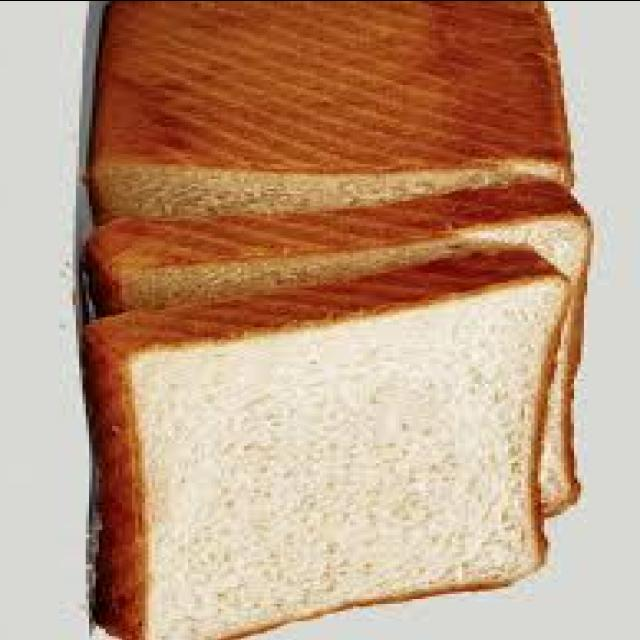roti tawar: (82, 247, 581, 640)
